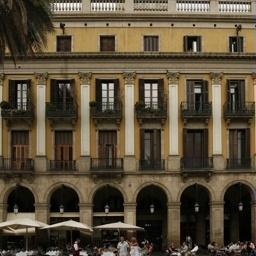building: (0, 0, 256, 246)
